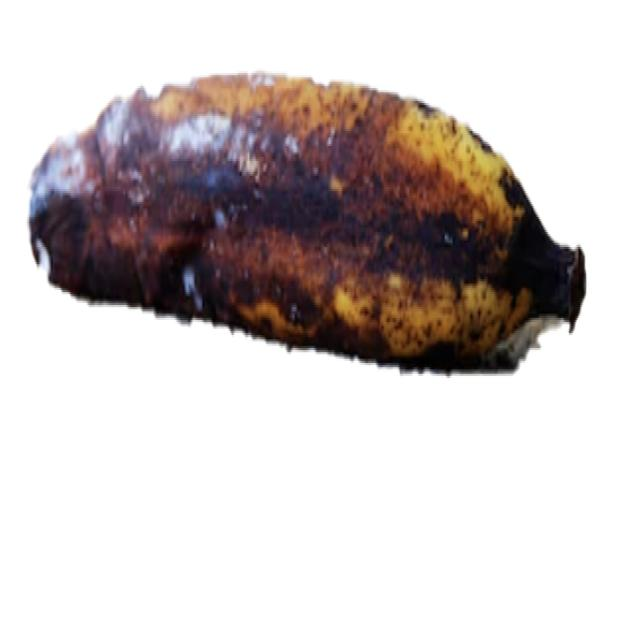rotten-banana: (27, 69, 586, 374)
